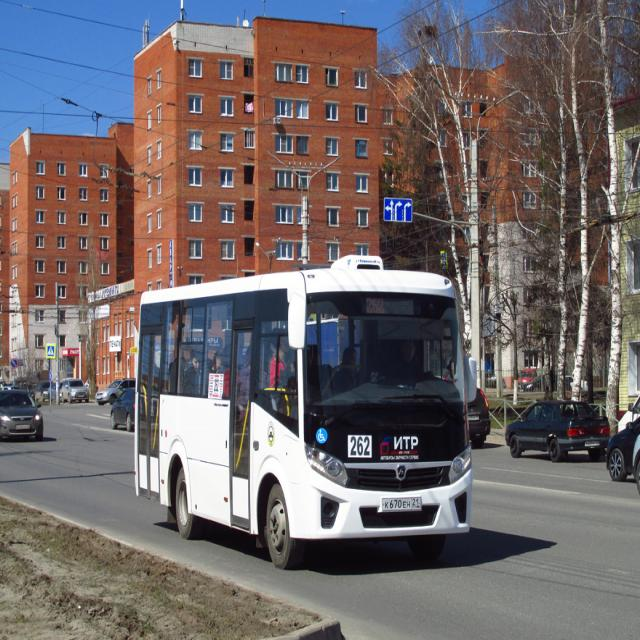number-of-bus: (350, 437, 373, 458)
